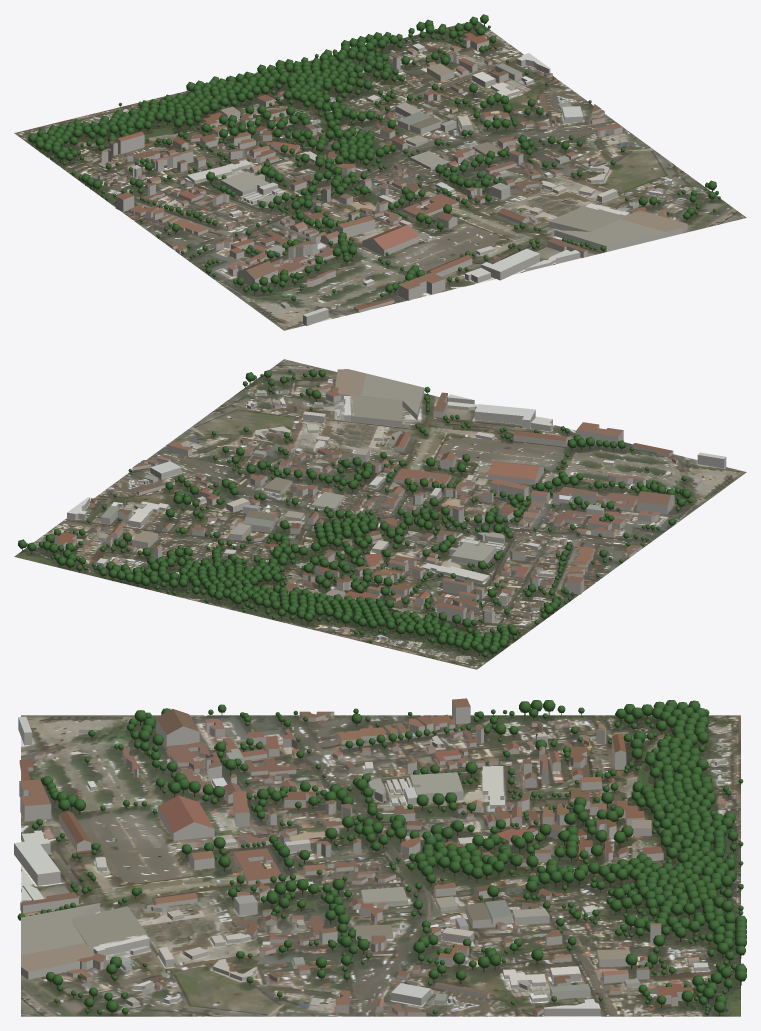
3 renders of one model, top to bottom at view 1: azimuth 30°, elevation 25°; view 2: azimuth 150°, elevation 25°; view 3: azimuth 270°, elevation 25°, orthographic. The views are drawn at different scales.
Visible parts, largest first — view 1: ground, trees, B250, B233, B221, B247, B244, B251, B112, B202, B217, B077 (+1 smaller); view 2: ground, trees, B250, B233, B247, B221, B112, B217, B251, B244, B202, B245 (+1 smaller); view 3: ground, trees, B250, B233, B221, B251, B247, B217, B202, B112, B244, B218 (+15 smaller).
Part boxes in pixels (x1,y1,x2,y2): ground: (14, 21, 746, 330); trees: (28, 14, 720, 302); B250: (554, 219, 664, 251); B233: (549, 205, 628, 231); B221: (362, 224, 419, 255); B247: (481, 248, 539, 280); B244: (398, 272, 445, 300); B251: (621, 210, 687, 237); B112: (220, 171, 269, 196); B202: (402, 194, 458, 217); B217: (237, 261, 277, 286); B077: (187, 160, 251, 183); ground: (14, 359, 746, 669); trees: (18, 369, 692, 658); B250: (361, 373, 424, 420); B233: (350, 395, 402, 426); B247: (474, 404, 535, 428); B221: (488, 461, 543, 484); B112: (449, 541, 496, 566); B217: (636, 491, 674, 514); B251: (335, 369, 366, 400); B244: (576, 422, 623, 447); B202: (393, 468, 451, 487); B245: (513, 430, 568, 446); ground: (21, 715, 740, 1016); trees: (17, 700, 746, 1016); B250: (21, 903, 100, 955); B233: (71, 906, 147, 951); B221: (158, 795, 214, 840); B251: (21, 943, 94, 979); B247: (14, 838, 60, 885); B217: (156, 709, 199, 746); B202: (233, 848, 280, 884); B112: (410, 772, 463, 805); B244: (19, 779, 51, 821); B218: (167, 741, 210, 772).
Size of the model in its own units: 510 by 15.69 by 517.
Materials: 248 (1 with a texture image).
